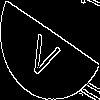V: (25, 25, 65, 81)
